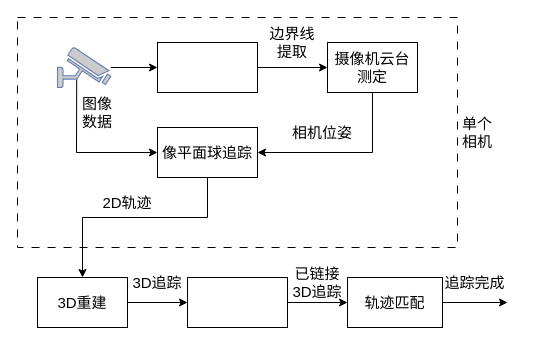
This 533x345 diagram has some shape labels left out. Here are the shapes that lost their labels. From the top down, the box of each, then its label:
(156, 42, 258, 92): 场地线提取
(186, 276, 288, 328): 撞击点测定
